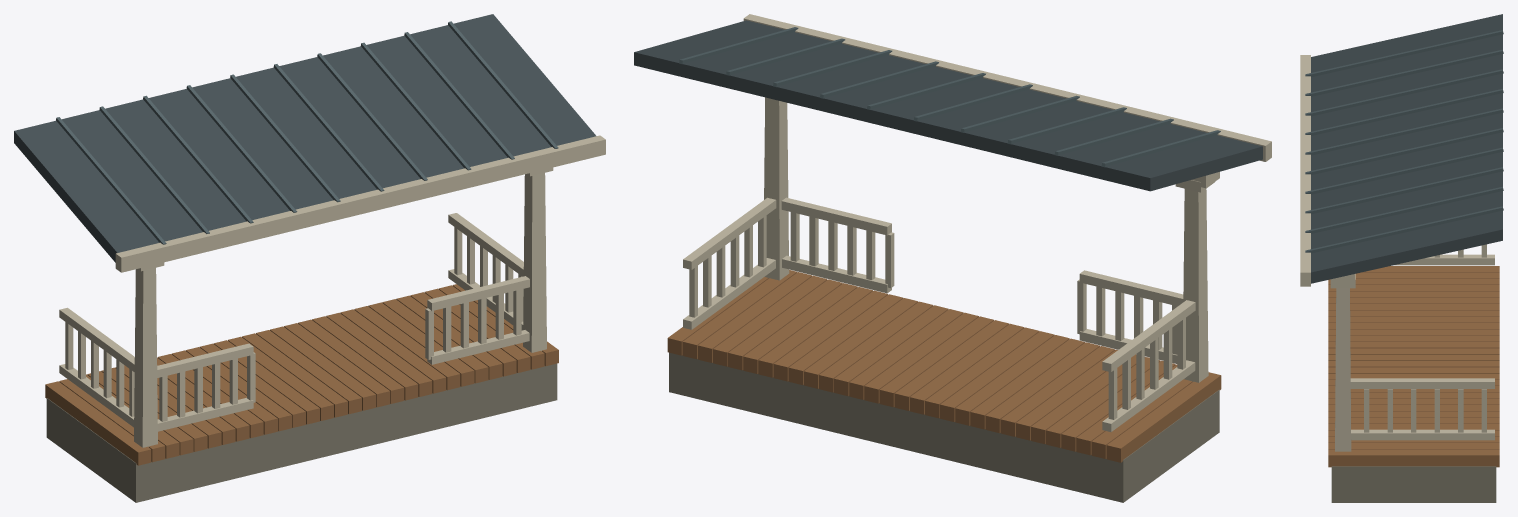
Rendered from rain_porch.glb.
The picture shows the model from 3 angles, left to right: view 1: azimuth 30°, elevation 25°; view 2: azimuth 150°, elevation 25°; view 3: azimuth 270°, elevation 25°; orthographic projection. The views are drawn at different scales.
Visible parts, largest first — view 1: KitRainPorchDetails, KitRainPorchRoofFinish; view 2: KitRainPorchDetails, KitRainPorchRoofFinish; view 3: KitRainPorchRoofFinish, KitRainPorchDetails.
Part boxes in pixels (x1,y1,x2,y2): KitRainPorchDetails: (45, 135, 605, 502); KitRainPorchRoofFinish: (14, 14, 596, 262); KitRainPorchDetails: (667, 14, 1271, 502); KitRainPorchRoofFinish: (634, 20, 1262, 191); KitRainPorchRoofFinish: (1305, 14, 1503, 283); KitRainPorchDetails: (1300, 55, 1499, 502).
Size of the model in its own units: 5.38 by 3.33 by 2.12.
